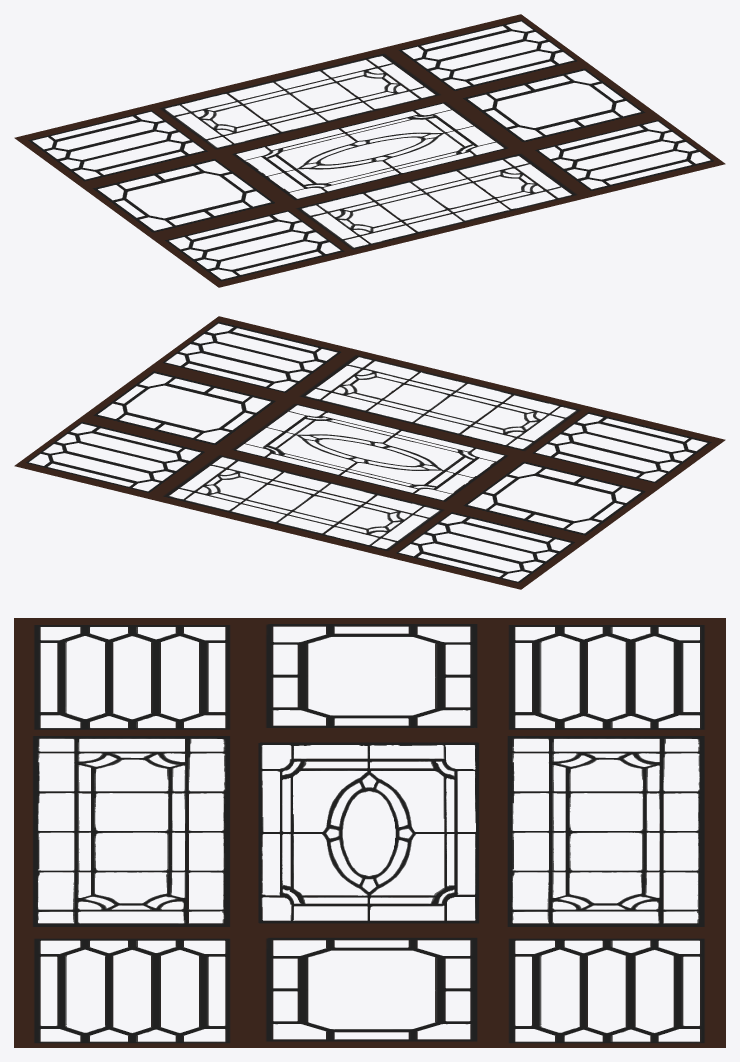
Rendered from Skylight_Greatroom.fbx.
The picture shows the model from 3 angles, top to bottom: view 1: azimuth 30°, elevation 25°; view 2: azimuth 150°, elevation 25°; view 3: azimuth 270°, elevation 25°; orthographic projection. The views are drawn at different scales.
Parts seen in each view (by area): view 1: Plane; view 2: Plane; view 3: Plane.
Boxes of the visible parts, x1=… form: Plane: x1=14, y1=14, x2=725, y2=287; Plane: x1=14, y1=316, x2=725, y2=589; Plane: x1=14, y1=618, x2=725, y2=1047.
Size of the model in its own units: 746 by 8.51e-05 by 522.
